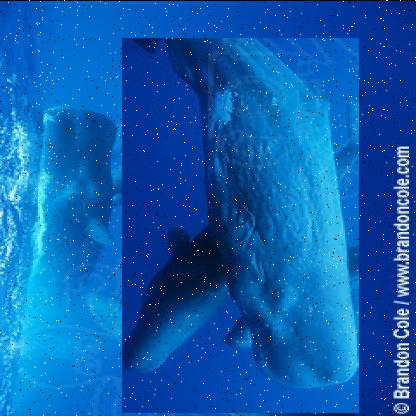sperm_whale: (122, 36, 360, 412)
